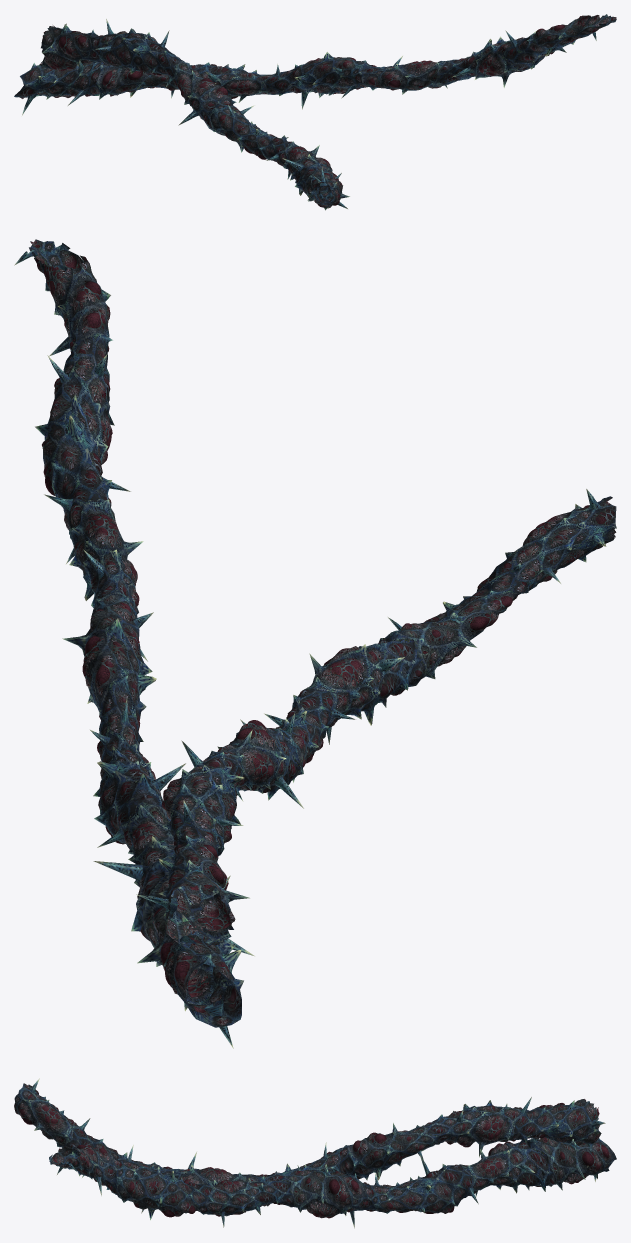
File: backup.fbx
3 views of the same model, one above another, from view 1: azimuth 30°, elevation 25°; view 2: azimuth 150°, elevation 25°; view 3: azimuth 270°, elevation 25° (orthographic). The views are drawn at different scales.
Visible parts, largest first — view 1: LODGroup_1_MainMesh_1_SubMesh_1; view 2: LODGroup_1_MainMesh_1_SubMesh_1; view 3: LODGroup_1_MainMesh_1_SubMesh_1.
Part boxes in pixels (x1,y1,x2,y2): LODGroup_1_MainMesh_1_SubMesh_1: (14,14,616,210); LODGroup_1_MainMesh_1_SubMesh_1: (14,239,616,1048); LODGroup_1_MainMesh_1_SubMesh_1: (14,1078,616,1228).
Bounding box in the file's own units: 894 × 448 × 1160.
